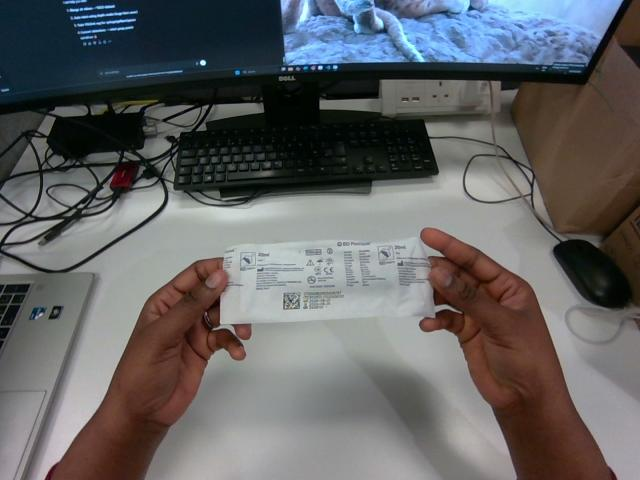syringe: (221, 238, 434, 323)
